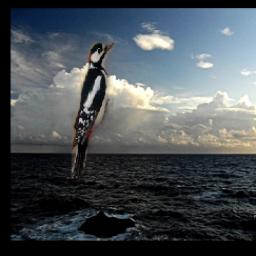Woodpecker: (72, 41, 114, 179)
